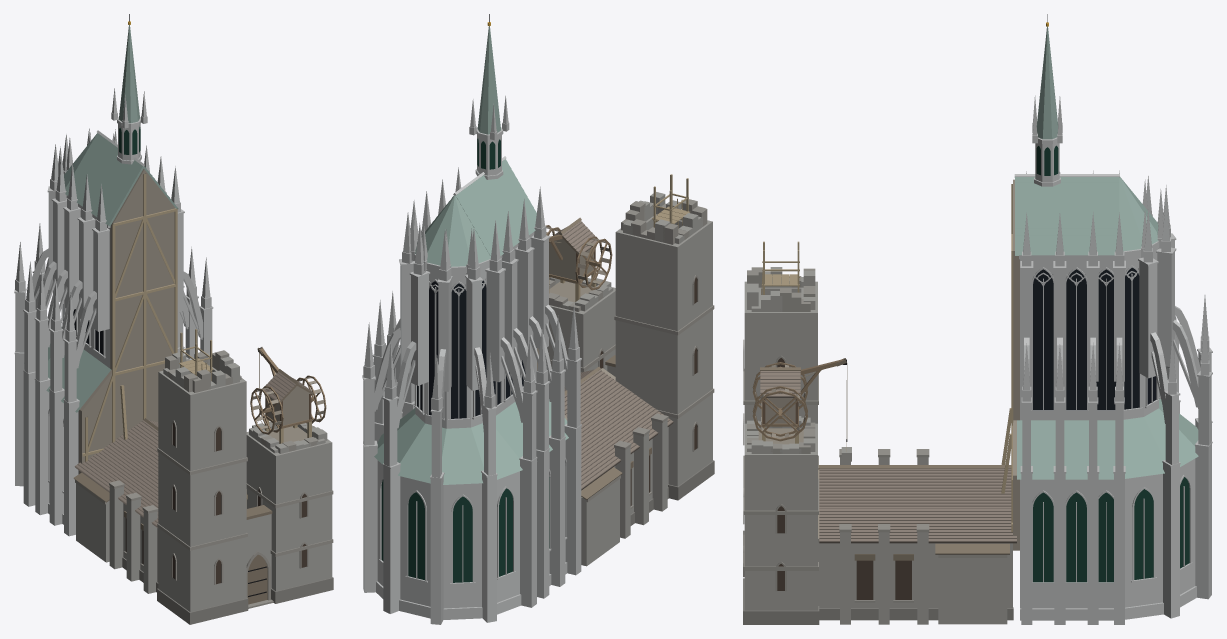
Rendered from koelner_dom.glb.
The picture shows the model from 3 angles, left to right: view 1: azimuth 30°, elevation 25°; view 2: azimuth 150°, elevation 25°; view 3: azimuth 270°, elevation 25°; orthographic projection. The views are drawn at different scales.
Parts seen in each view (by area): view 1: Chor, Nordturm, Westwand, Langhaus, Suedturm, Kranhaus, Tretrad; view 2: Chor, Nordturm, Langhaus, Suedturm, Kranhaus, Tretrad; view 3: Chor, Langhaus, Suedturm, Nordturm, Westwand, Kranhaus, Tretrad.
Part boxes in pixels (bbox=[...]): Chor: bbox=[14, 14, 213, 536]; Nordturm: bbox=[157, 329, 248, 624]; Westwand: bbox=[79, 169, 177, 473]; Langhaus: bbox=[73, 418, 273, 608]; Suedturm: bbox=[246, 422, 333, 603]; Kranhaus: bbox=[252, 347, 315, 443]; Tretrad: bbox=[250, 375, 326, 434]; Chor: bbox=[362, 14, 581, 624]; Nordturm: bbox=[614, 174, 714, 500]; Langhaus: bbox=[564, 355, 673, 566]; Suedturm: bbox=[547, 277, 615, 372]; Kranhaus: bbox=[549, 217, 596, 301]; Tretrad: bbox=[545, 225, 612, 290]; Chor: bbox=[1014, 14, 1212, 624]; Langhaus: bbox=[818, 449, 1016, 624]; Suedturm: bbox=[743, 416, 819, 624]; Nordturm: bbox=[743, 241, 818, 576]; Westwand: bbox=[1001, 179, 1019, 550]; Kranhaus: bbox=[760, 358, 851, 461]; Tretrad: bbox=[752, 362, 807, 441].
Bounding box in the file's own units: 13.95 × 45.5 × 33.95.
